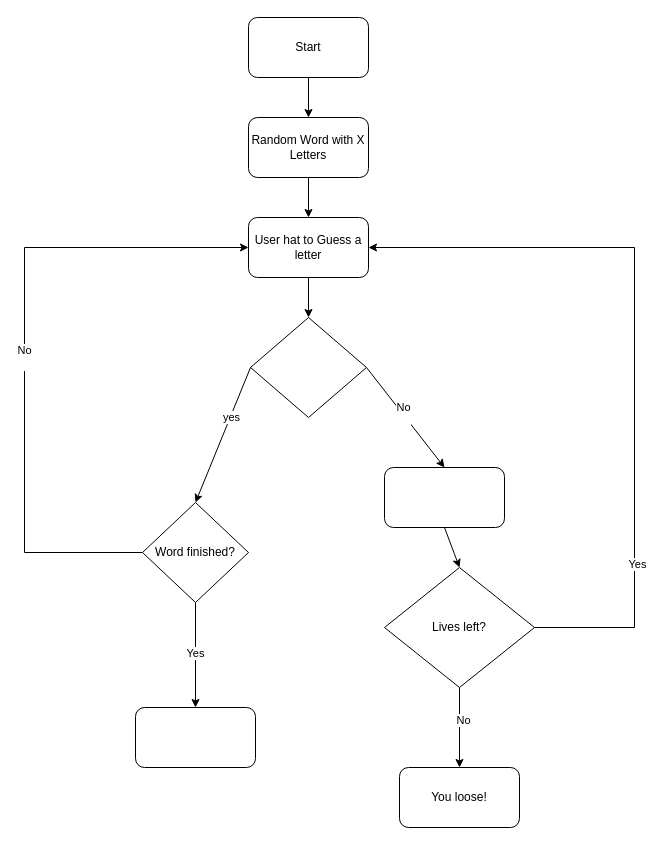
The diagram is 663 pixels wide and 845 high, and some of its shapes have lost their labels. Each missing label, with the box of its shape:
Letter in the word?: (250, 316, 366, 418)
One live less: (384, 466, 504, 528)
WIN!: (134, 706, 256, 768)
